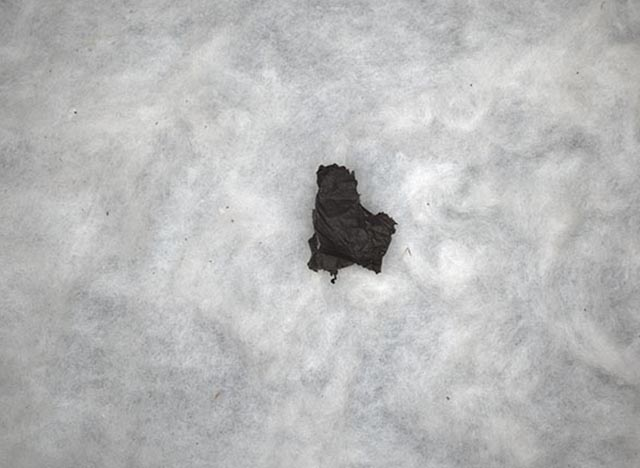plastic film: (306, 164, 398, 285)
